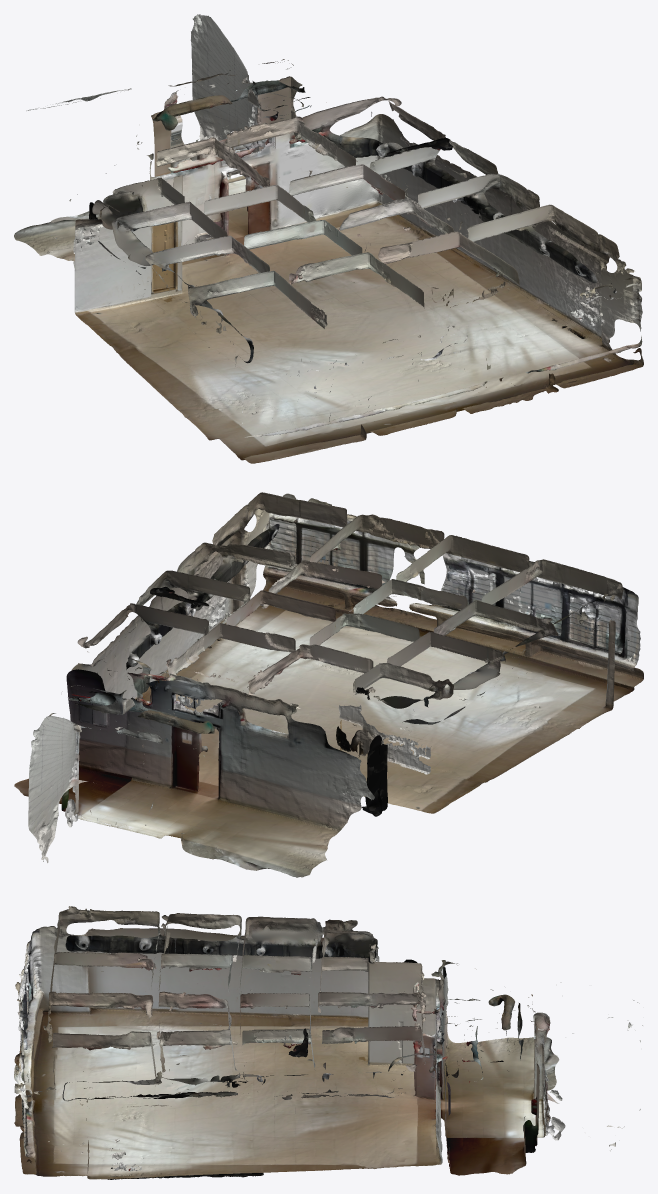
The picture shows the model from 3 angles, top to bottom: view 1: azimuth 30°, elevation 25°; view 2: azimuth 150°, elevation 25°; view 3: azimuth 270°, elevation 25°; orthographic projection. The views are drawn at different scales.
Bounding box in the file's own units: 11.88 × 4.3 × 18.45.
5 materials, 5 textured.
